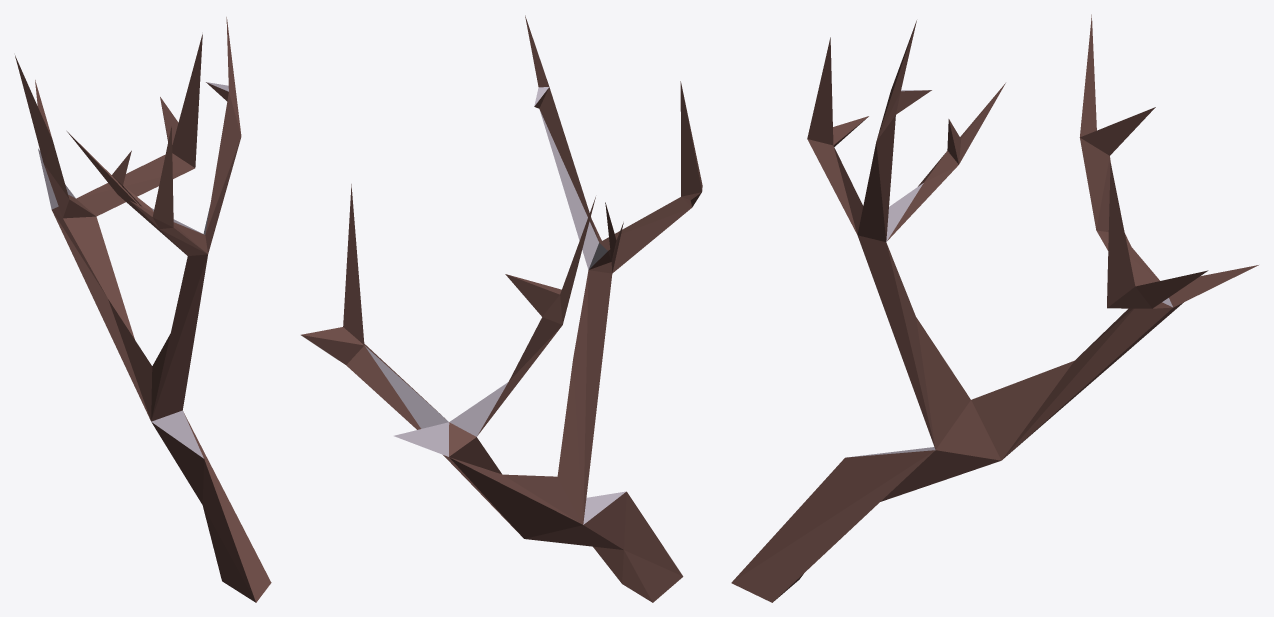
The model's file is Willow_Dead_Snow_2.lod3.glb.
The picture shows the model from 3 angles, left to right: view 1: azimuth 30°, elevation 25°; view 2: azimuth 150°, elevation 25°; view 3: azimuth 270°, elevation 25°; orthographic projection. The views are drawn at different scales.
Parts seen in each view (by area): view 1: Willow_Dead_Snow_2; view 2: Willow_Dead_Snow_2; view 3: Willow_Dead_Snow_2.
Part boxes in pixels (x1,y1,x2,y2): Willow_Dead_Snow_2: (15,17,271,602); Willow_Dead_Snow_2: (301,15,702,602); Willow_Dead_Snow_2: (731,14,1258,602).
Size of the model in its own units: 1.12 by 2.83 by 2.28.
